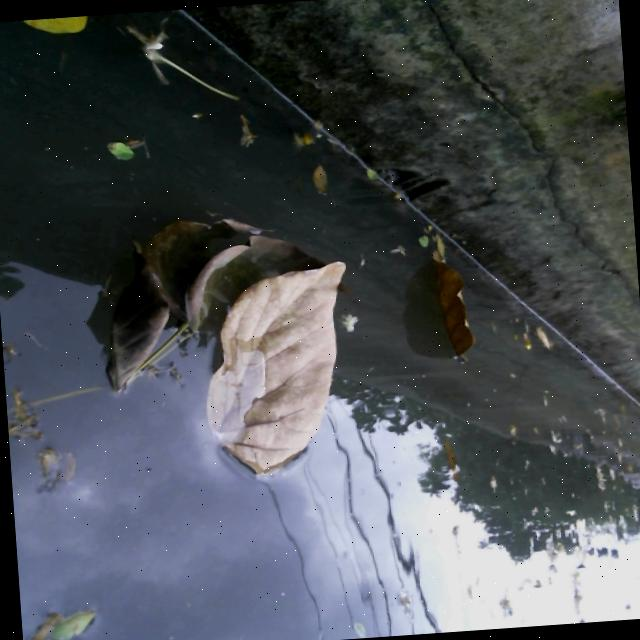Big-leaf: (199, 260, 374, 502), (92, 211, 335, 385), (425, 231, 482, 365)
Small-leaf: (19, 593, 111, 640), (231, 106, 267, 153), (432, 432, 466, 479), (15, 16, 85, 37), (307, 165, 339, 202), (102, 138, 138, 169), (283, 124, 327, 149), (534, 319, 556, 352), (481, 468, 506, 495), (515, 312, 533, 346), (361, 161, 382, 182), (505, 413, 519, 439), (413, 231, 428, 251), (390, 191, 405, 205)
